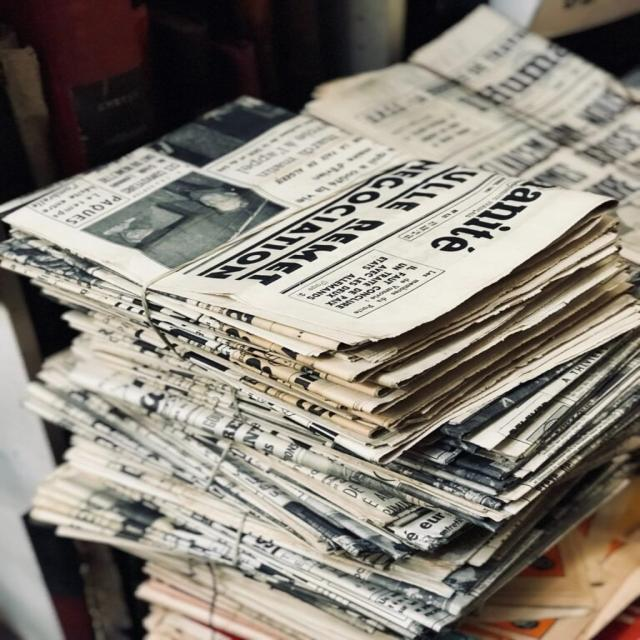newspaper: (13, 102, 639, 640), (319, 13, 640, 255)
